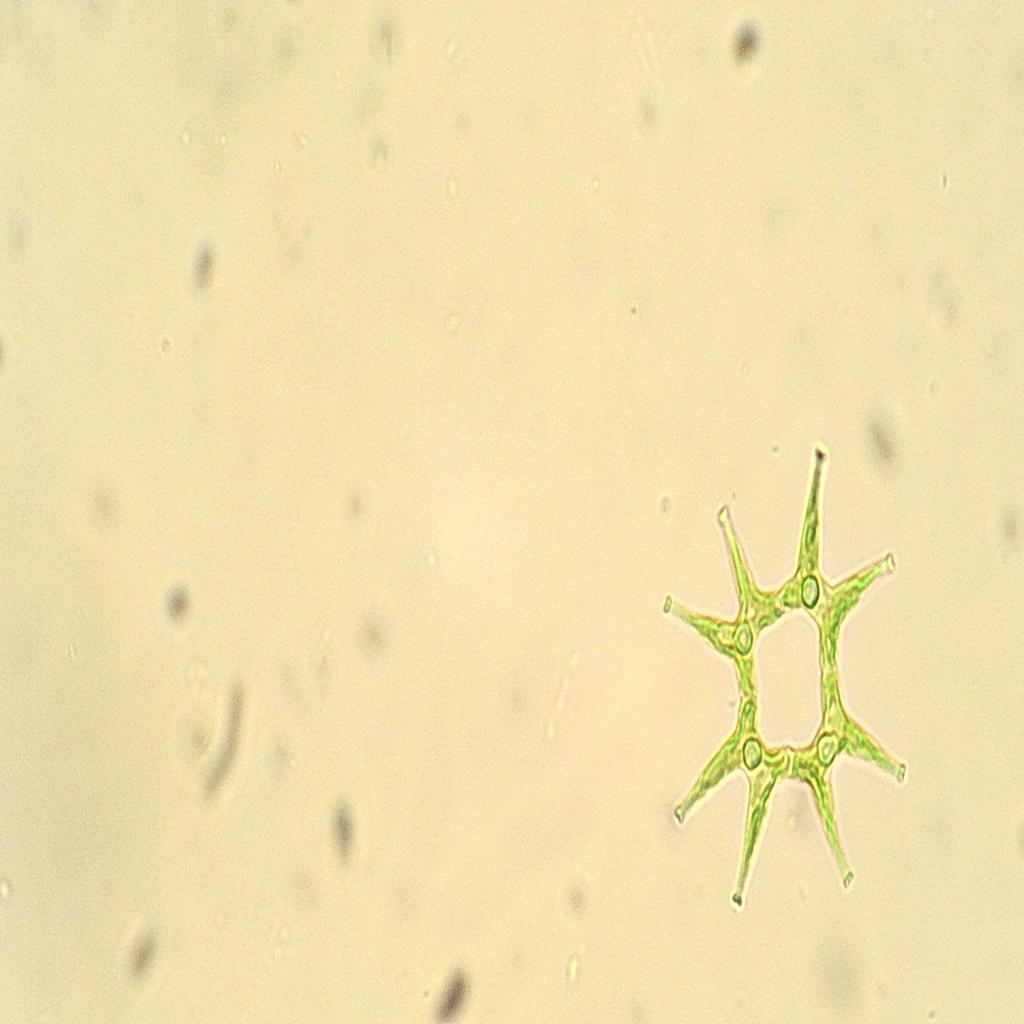Pediastrum_CO: (636, 440, 942, 944)
